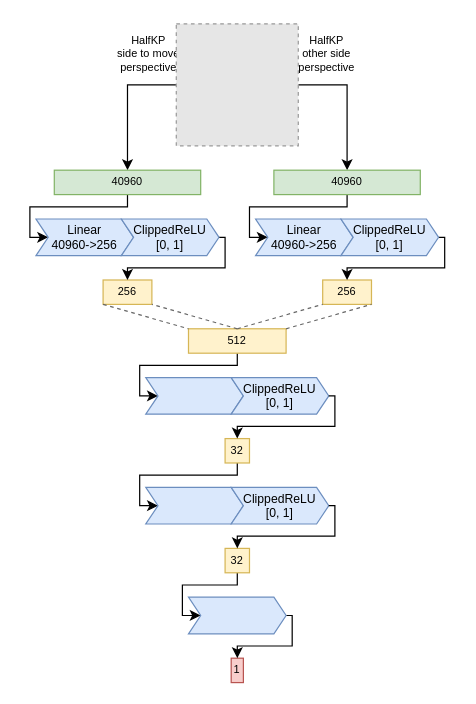
This 476x704 diagram has some shape labels left out. Grey dashed boxes stand in for pictures. The centre of each missing label's shape, as x and y in pixels:
Linear 32->1: (x=236, y=615)
Linear 32->32: (x=194, y=505)
Linear 512->32: (x=194, y=395)
